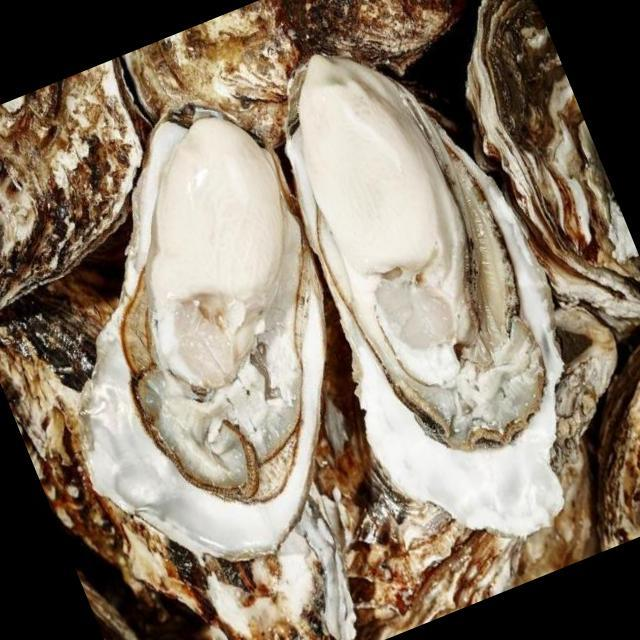Oyster- Indeterminate: (0, 215, 388, 640), (280, 307, 640, 640), (421, 0, 640, 357), (116, 0, 486, 177), (0, 57, 188, 322), (536, 320, 640, 549)
Oyster-Open: (220, 1, 632, 579), (0, 86, 418, 610)
